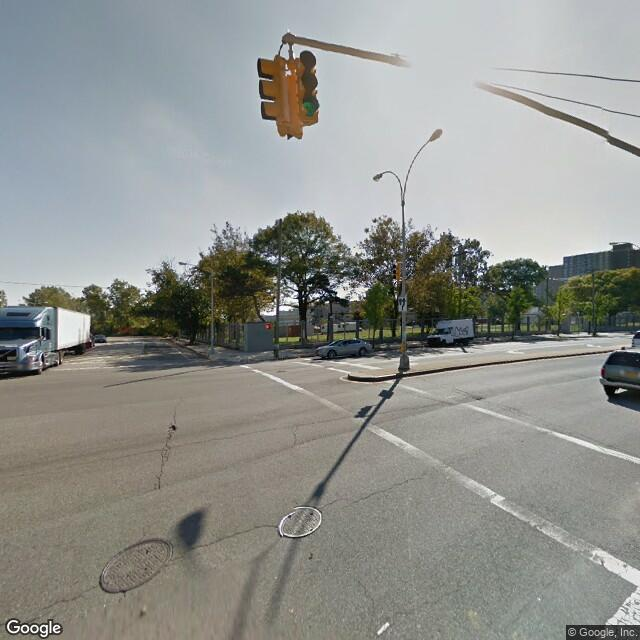litter: (377, 624, 390, 635)
